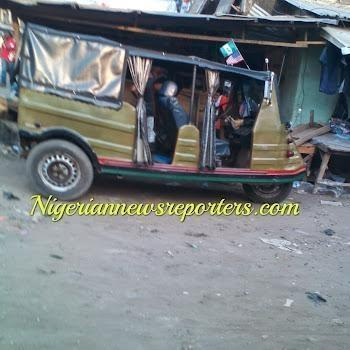keke: (5, 0, 340, 208)
